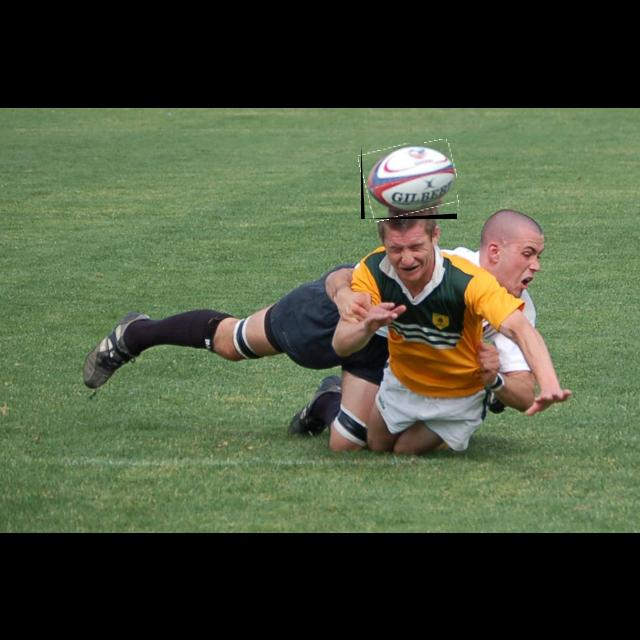Football: (361, 143, 457, 219)
